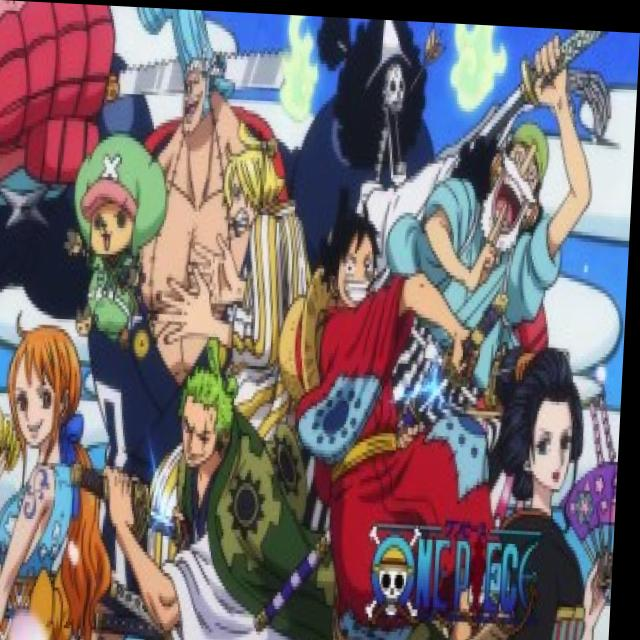Blook: (329, 14, 425, 179)
Chyopa: (69, 132, 165, 355)
Franky: (171, 18, 229, 139)
Luffy: (320, 208, 389, 312)
Nami: (0, 311, 92, 463)
NicoRobin: (500, 354, 603, 512)
Sangdi: (219, 136, 291, 239)
Usopp: (466, 103, 553, 265)
Zoro: (178, 344, 252, 477)
